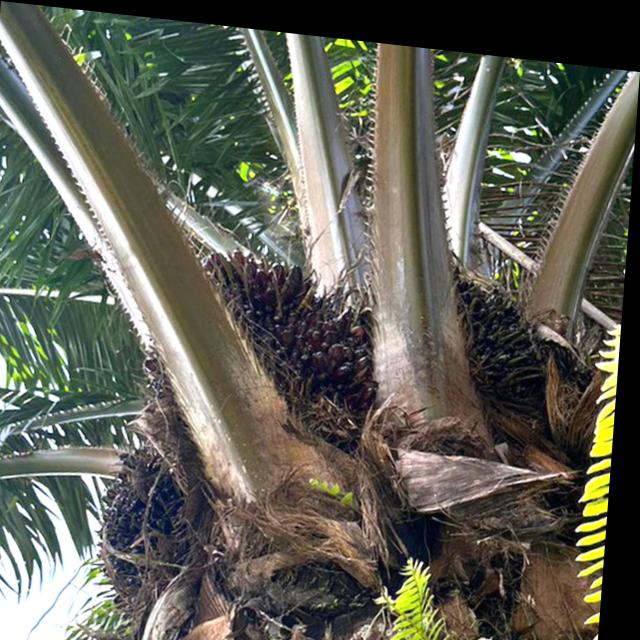ripe: (177, 220, 398, 443)
